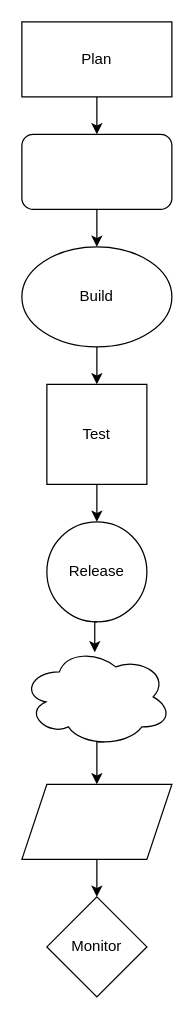
Image size: 194x1019. Some labels were removed from this diagram. Each missing label, with the box of its shape:
Decelope: (21, 133, 172, 209)
Deplo: (21, 646, 172, 747)
Operate: (21, 783, 172, 859)
